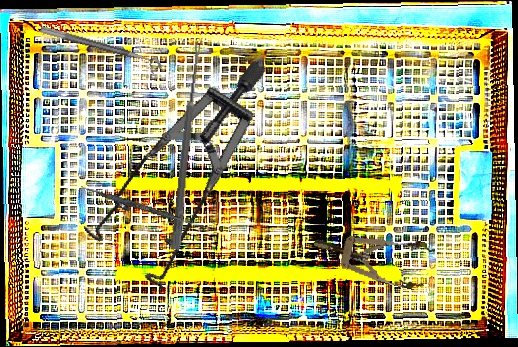Fixation Ring: (36, 24, 165, 79)
Spatula Surgical: (79, 185, 207, 230)
Speculum: (49, 56, 329, 310), (309, 218, 436, 293)
Surgical Spoon: (171, 40, 203, 250)
